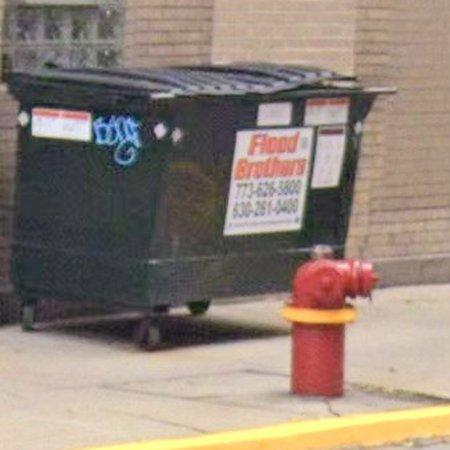a fire hydrant: (283, 259, 377, 397)
